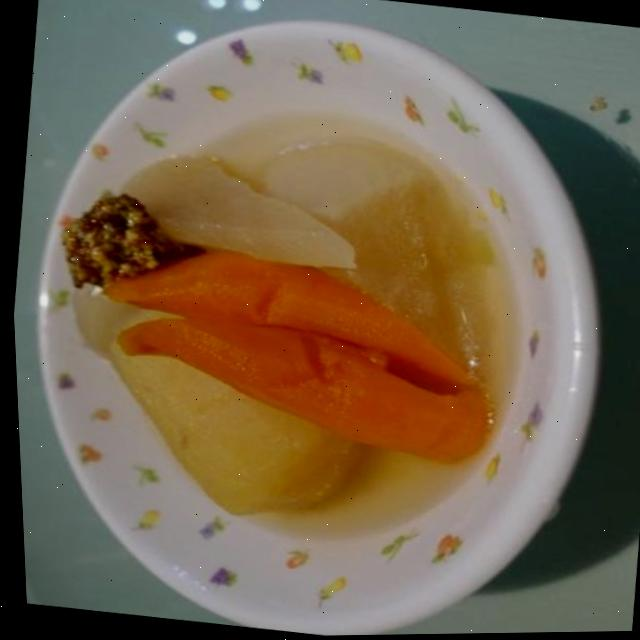汤锅炖物: (2, 24, 611, 627)
